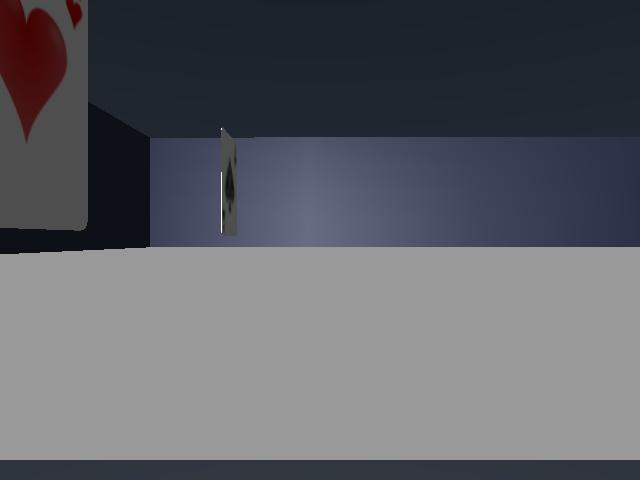club: (221, 128, 237, 236)
